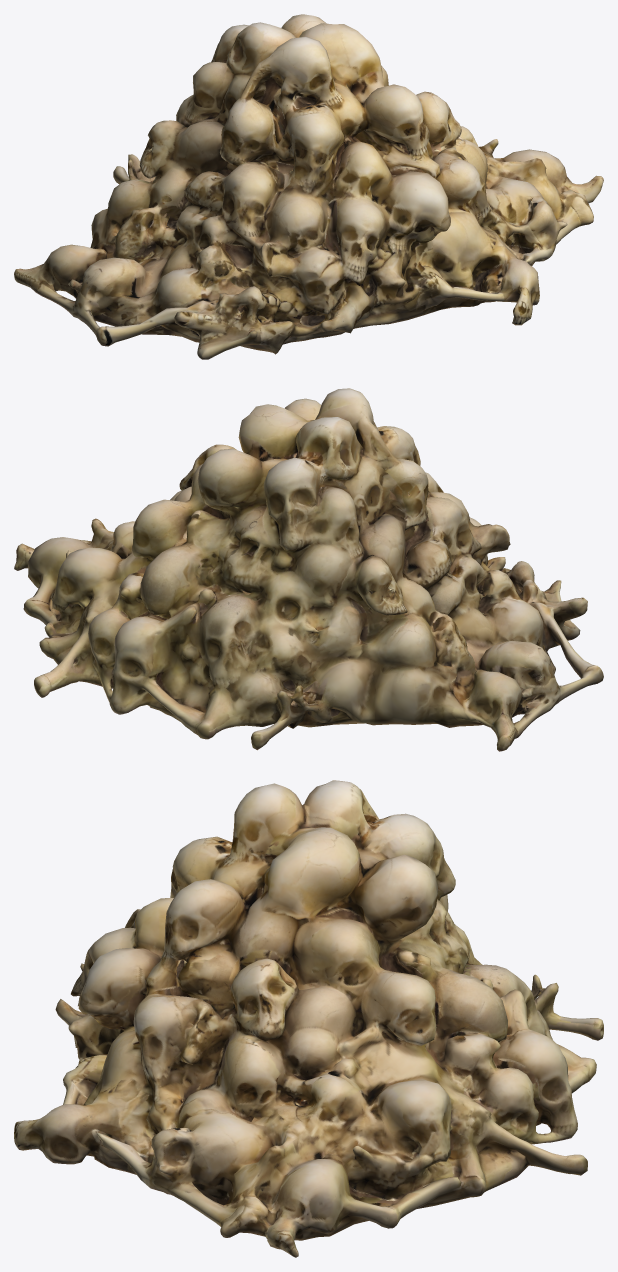
The model's file is A_PILE_OF_SKULLS_AND__1024124637_texture.obj.
The picture shows the model from 3 angles, top to bottom: view 1: azimuth 30°, elevation 25°; view 2: azimuth 150°, elevation 25°; view 3: azimuth 270°, elevation 25°; orthographic projection. The views are drawn at different scales.
Visible parts, largest first — view 1: A_PILE_OF_SKULLS_AND__1024124637_texture; view 2: A_PILE_OF_SKULLS_AND__1024124637_texture; view 3: A_PILE_OF_SKULLS_AND__1024124637_texture.
Boxes of the visible parts, <box> form: A_PILE_OF_SKULLS_AND__1024124637_texture: <box>14,14,603,359</box>; A_PILE_OF_SKULLS_AND__1024124637_texture: <box>14,388,603,751</box>; A_PILE_OF_SKULLS_AND__1024124637_texture: <box>14,780,603,1257</box>.
Bounding box in the file's own units: 1.98 × 0.8622 × 1.56.
Materials: 1 (1 with a texture image).
